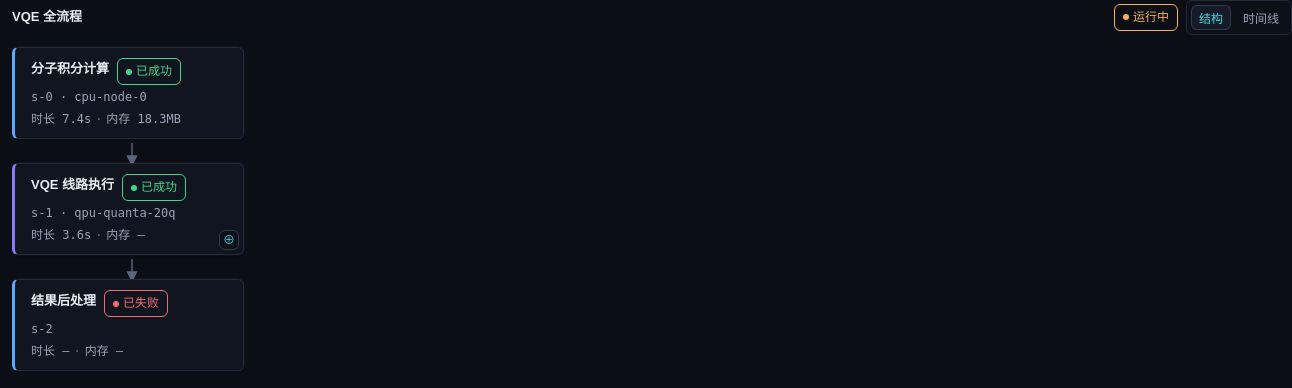
DagView 嵌套下钻（v1.3） › ⊕ 角标仅 subtask_id 非空节点渲染；点击加载子 DAG + 面包屑
Click the button with test id "dag-drill-s-1" at (229, 240), box [219,230,239,250]
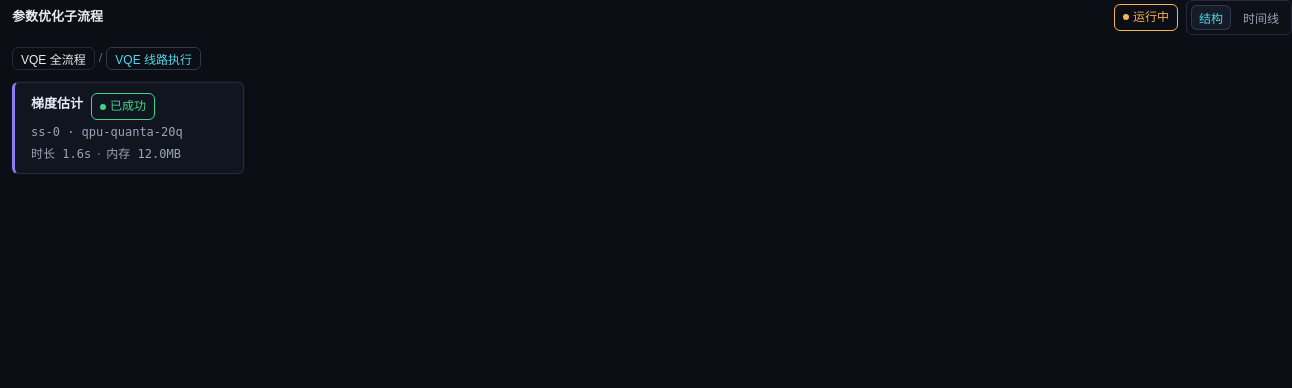
Check: the button with test id "dag-crumb-1" reads "VQE 线路执行", box [106,47,201,70]
Check: the button with test id "dag-node-ss-0" is shown, box [12,82,244,174]
Click the button with test id "dag-crumb-root" at (53, 58), box [12,47,95,70]
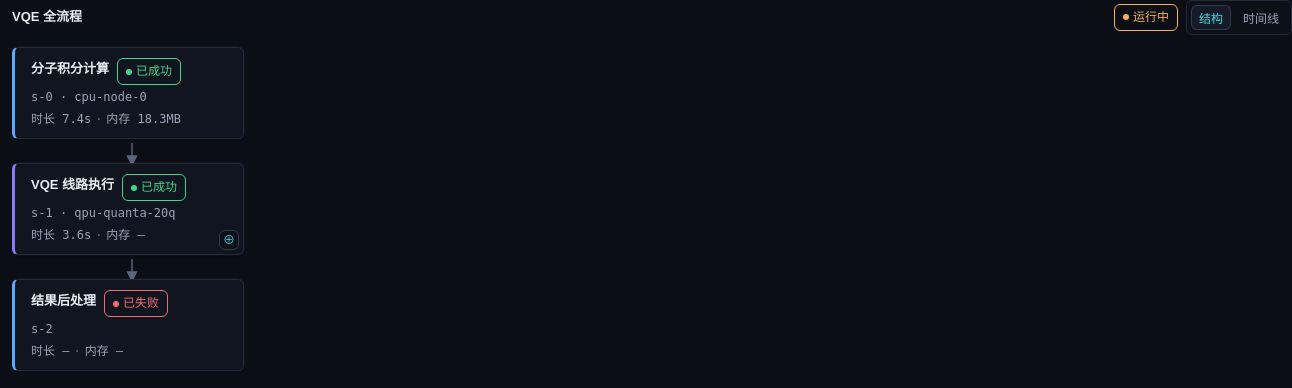
Check: the button with test id "dag-node-ss-0" is gone
Check: the button with test id "dag-node-s-0" is shown, box [12,47,244,139]
